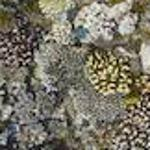alive: (1, 4, 148, 149)
